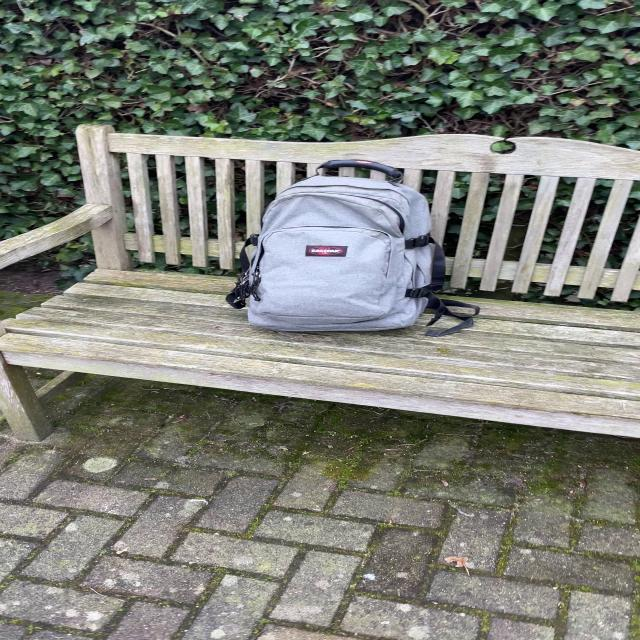backpack: (223, 156, 452, 338)
